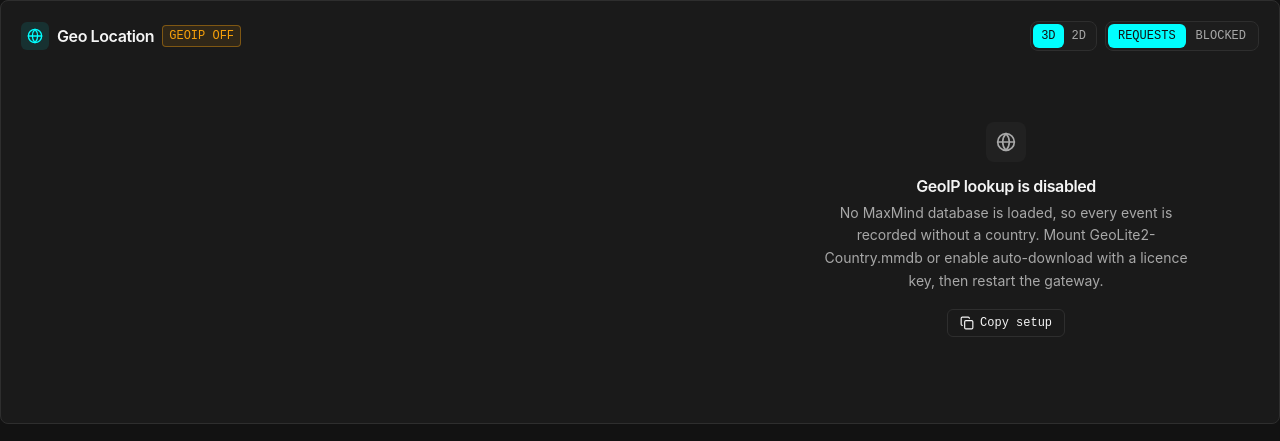
Test: StatsGeoPanel.vue › copies the GeoIP setup snippet from the empty state action
Step 1. Click the button "Copy setup" → click(1006, 322), box [947,308,1065,336]
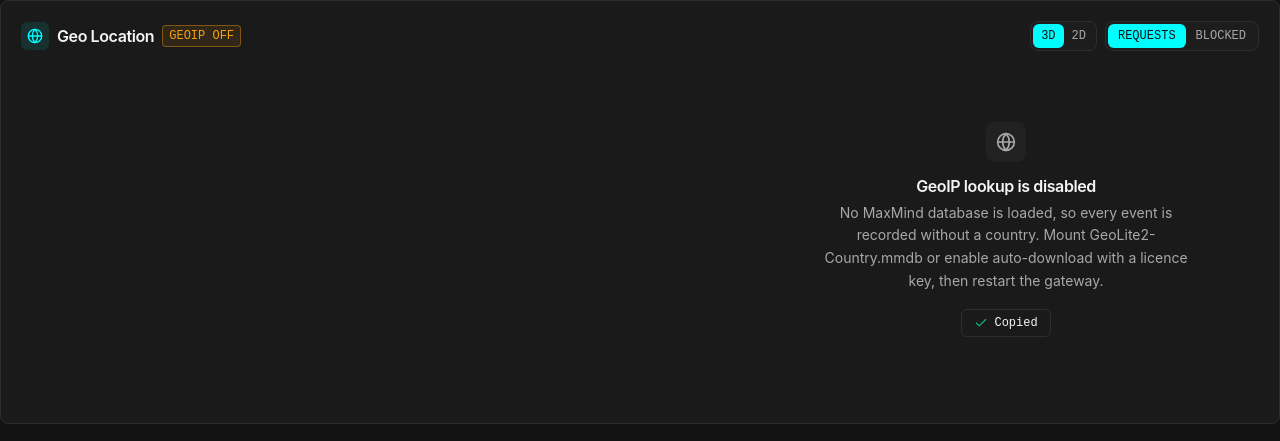
Expected: the button "Copied" is shown, [962,308,1051,336]
